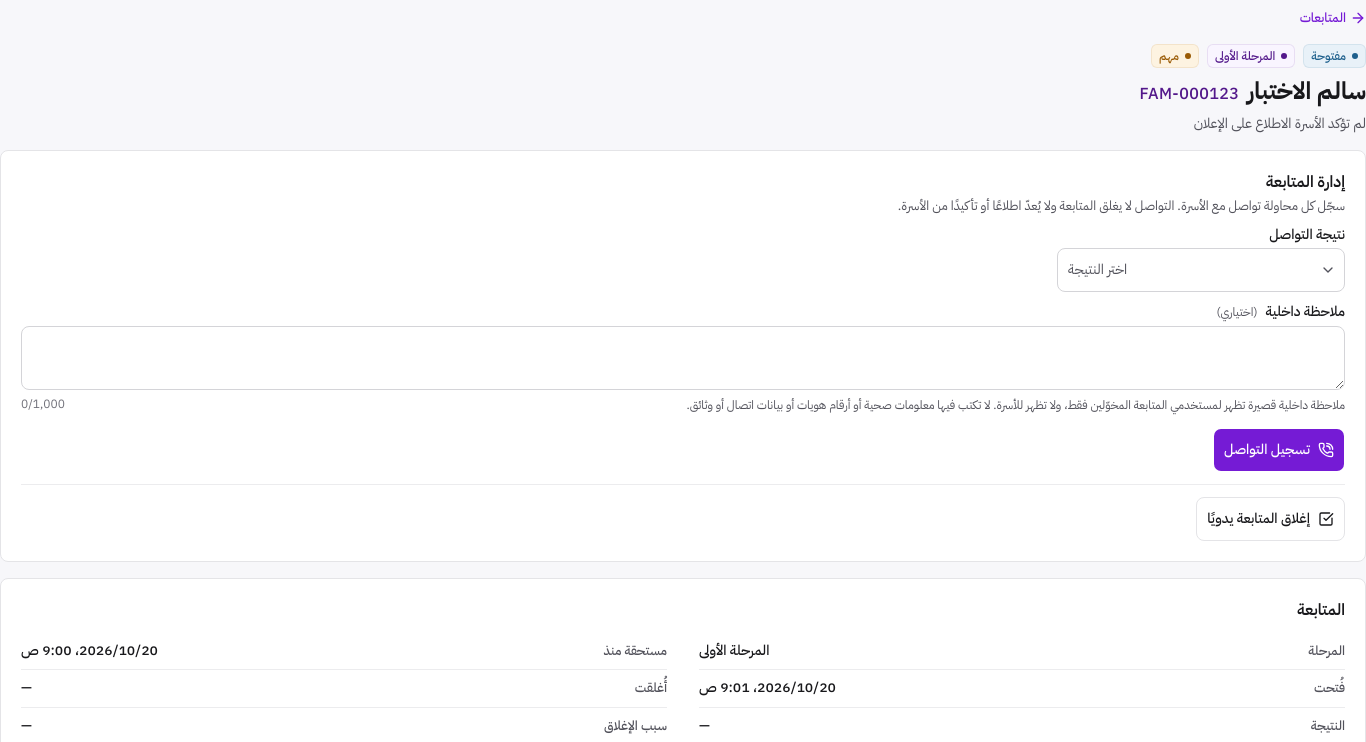
Test case: recording a contact › a state or ownership 409 is shown on the page and the follow-up is re-read
Click the dropdown named "نتيجة التواصل".
click(1098, 270)  # box [1057,248,1345,292]
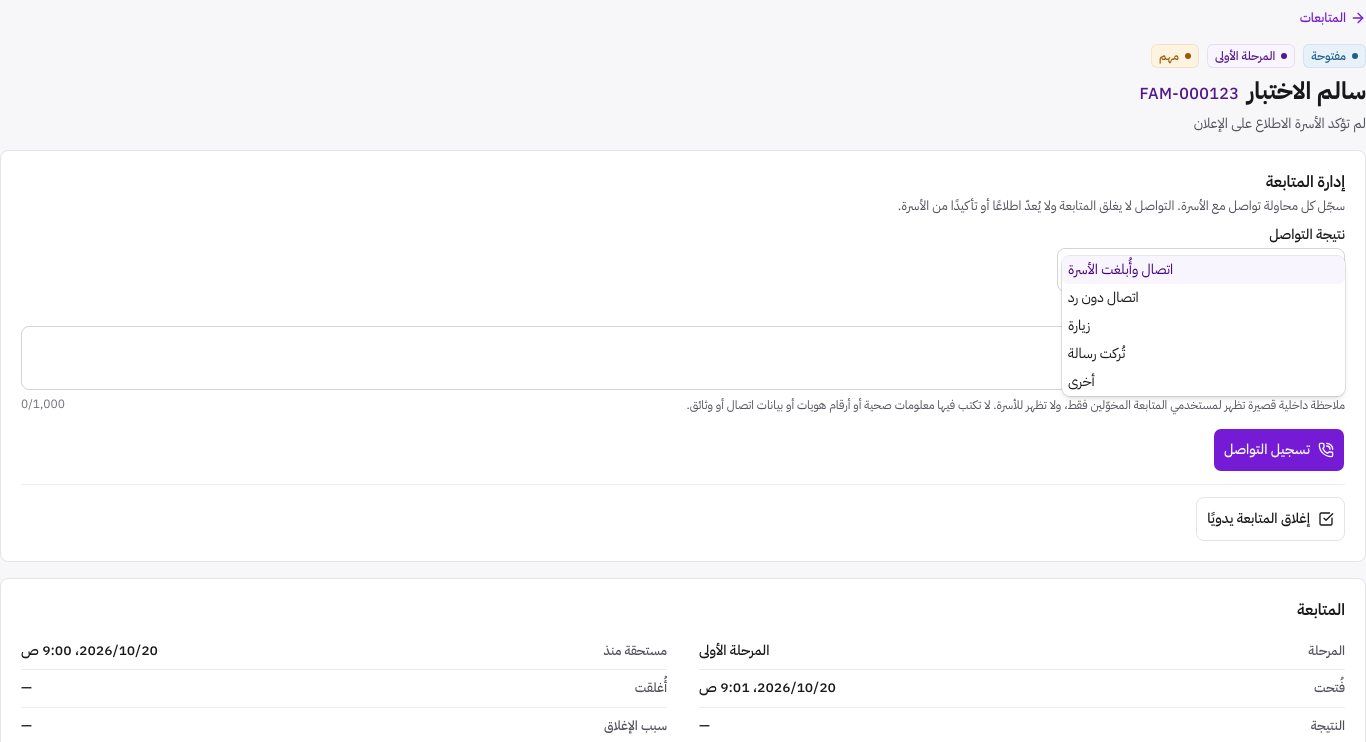
Click the option "زيارة".
click(1079, 326)  # box [1068,315,1090,336]
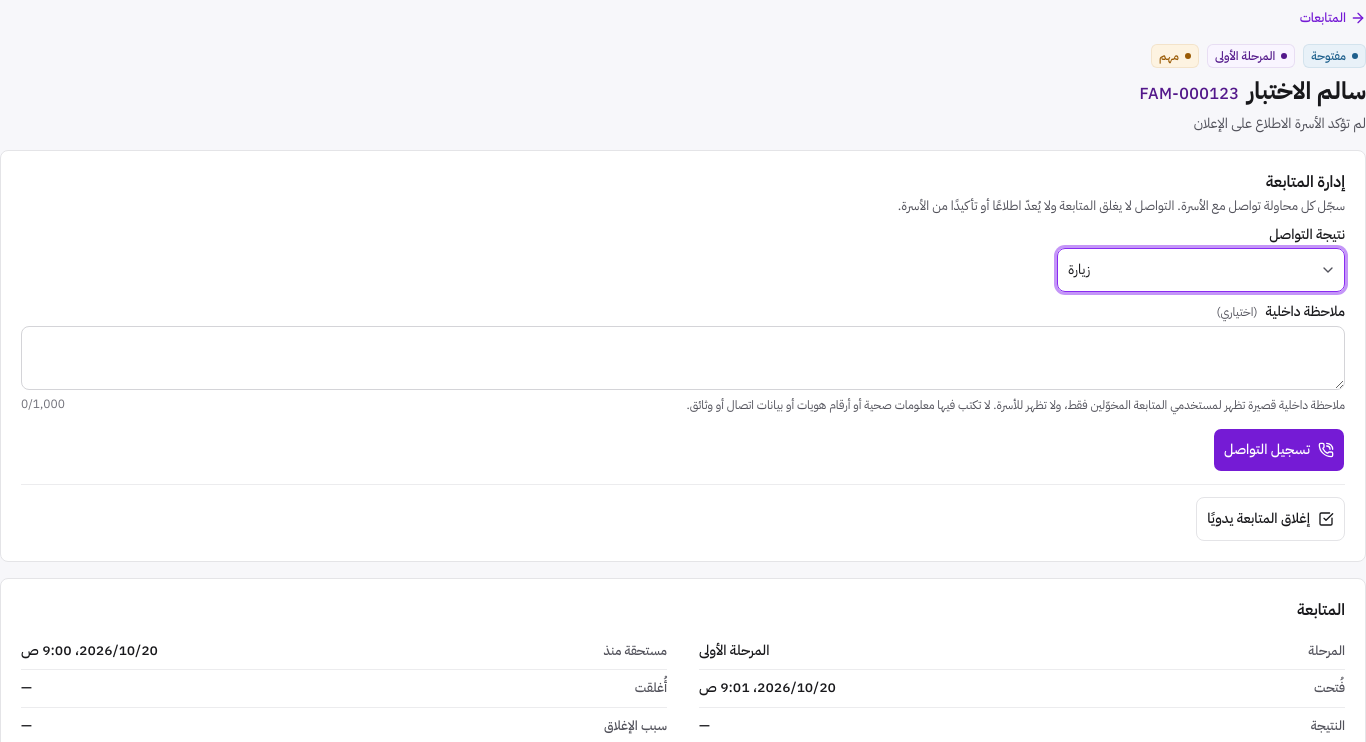
Click the button "تسجيل التواصل".
click(1279, 450)  # box [1213,428,1345,472]
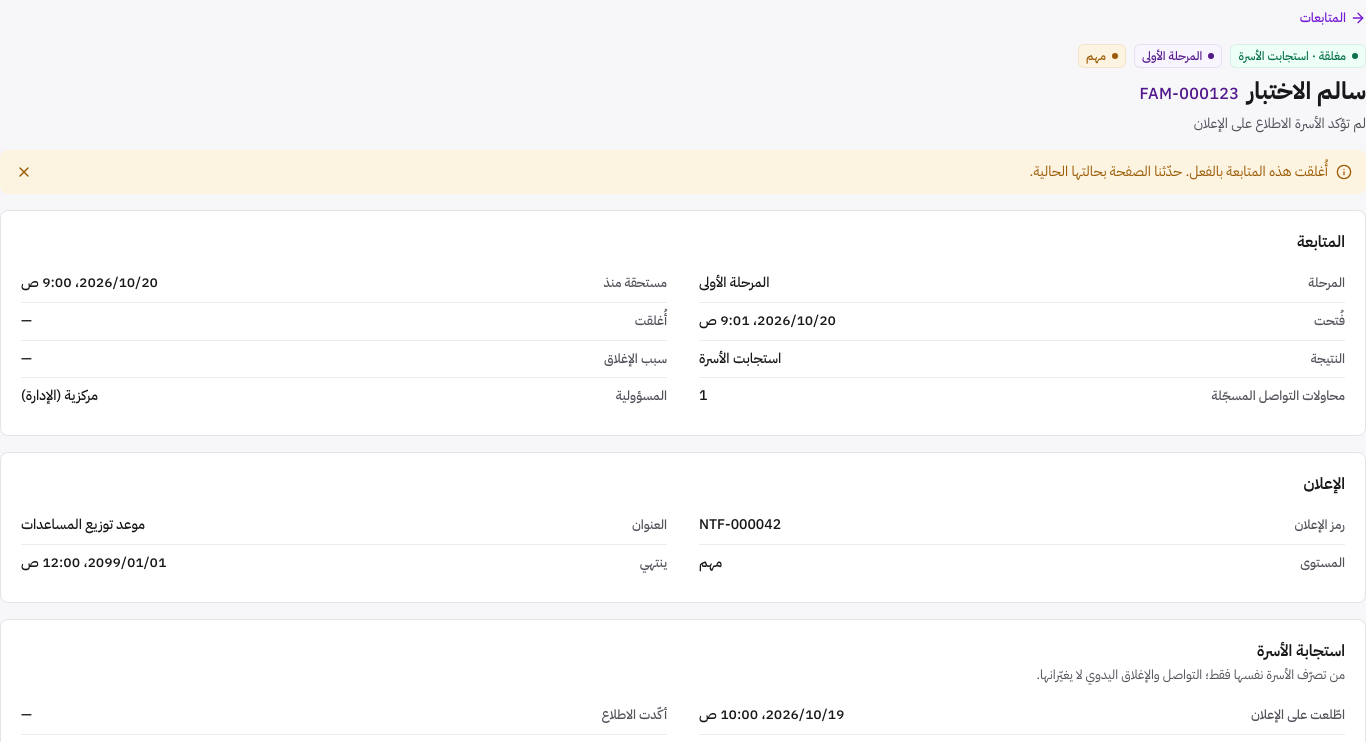
Expected: the text "أُغلقت هذه المتابعة بالفعل. حدّثنا الصفحة بحالتها الحالية." is shown, [1030,161,1328,182]
Expected: the text "مغلقة · استجابت الأسرة" is shown, [1238,48,1346,64]
